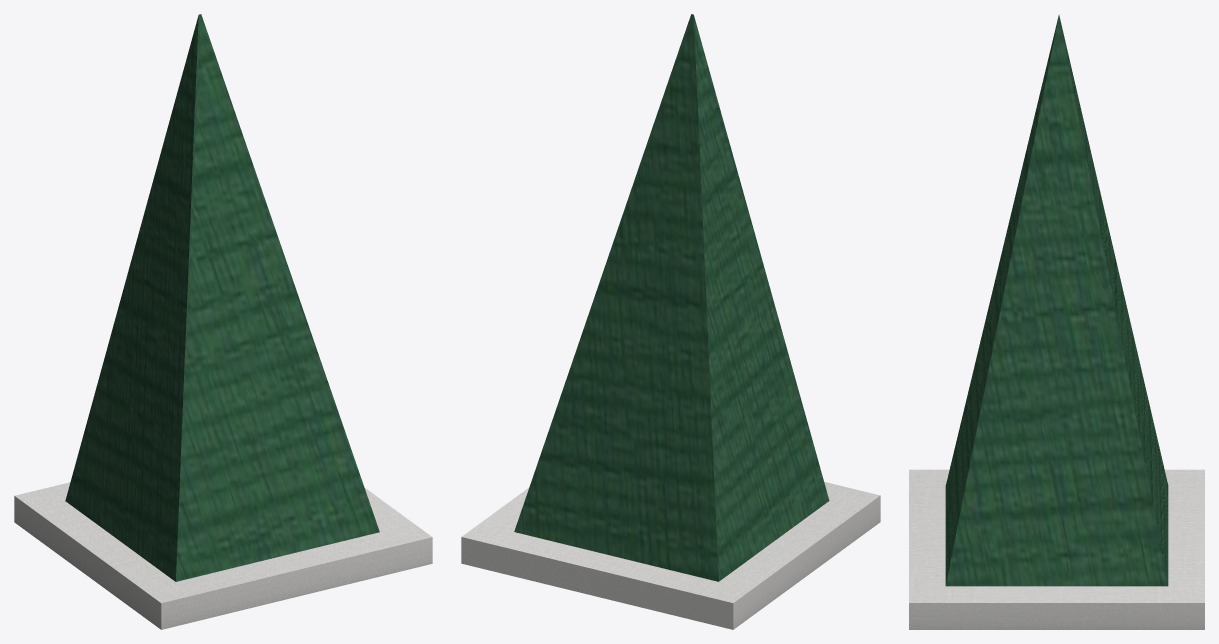
File: pico.obj
The picture shows the model from 3 angles, left to right: view 1: azimuth 30°, elevation 25°; view 2: azimuth 150°, elevation 25°; view 3: azimuth 270°, elevation 25°; orthographic projection.
Parts seen in each view (by area): view 1: pasted__pCube1 group9, pasted__pCube1 group10; view 2: pasted__pCube1 group9, pasted__pCube1 group10; view 3: pasted__pCube1 group9, pasted__pCube1 group10.
Boxes of the visible parts, left/top/right/bottom form: pasted__pCube1 group9: left=65, top=14, right=379, bottom=581; pasted__pCube1 group10: left=14, top=482, right=432, bottom=629; pasted__pCube1 group9: left=514, top=14, right=829, bottom=581; pasted__pCube1 group10: left=461, top=482, right=880, bottom=629; pasted__pCube1 group9: left=945, top=14, right=1168, bottom=586; pasted__pCube1 group10: left=909, top=469, right=1204, bottom=629.
Size of the model in its own units: 360 by 676 by 337.
2 materials, 2 textured.
